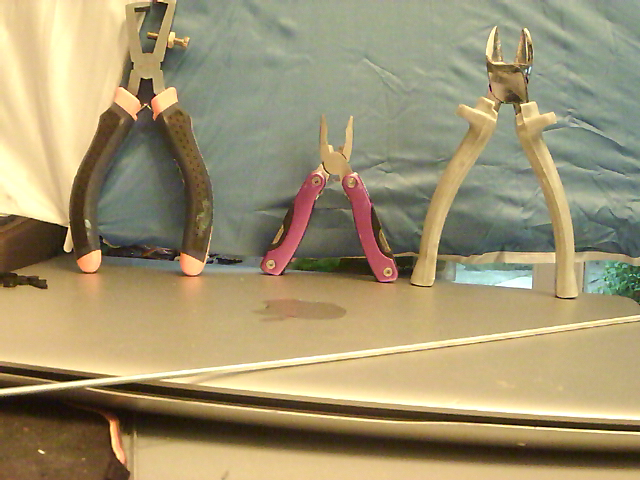pliers: (408, 16, 583, 300), (259, 112, 400, 282)
